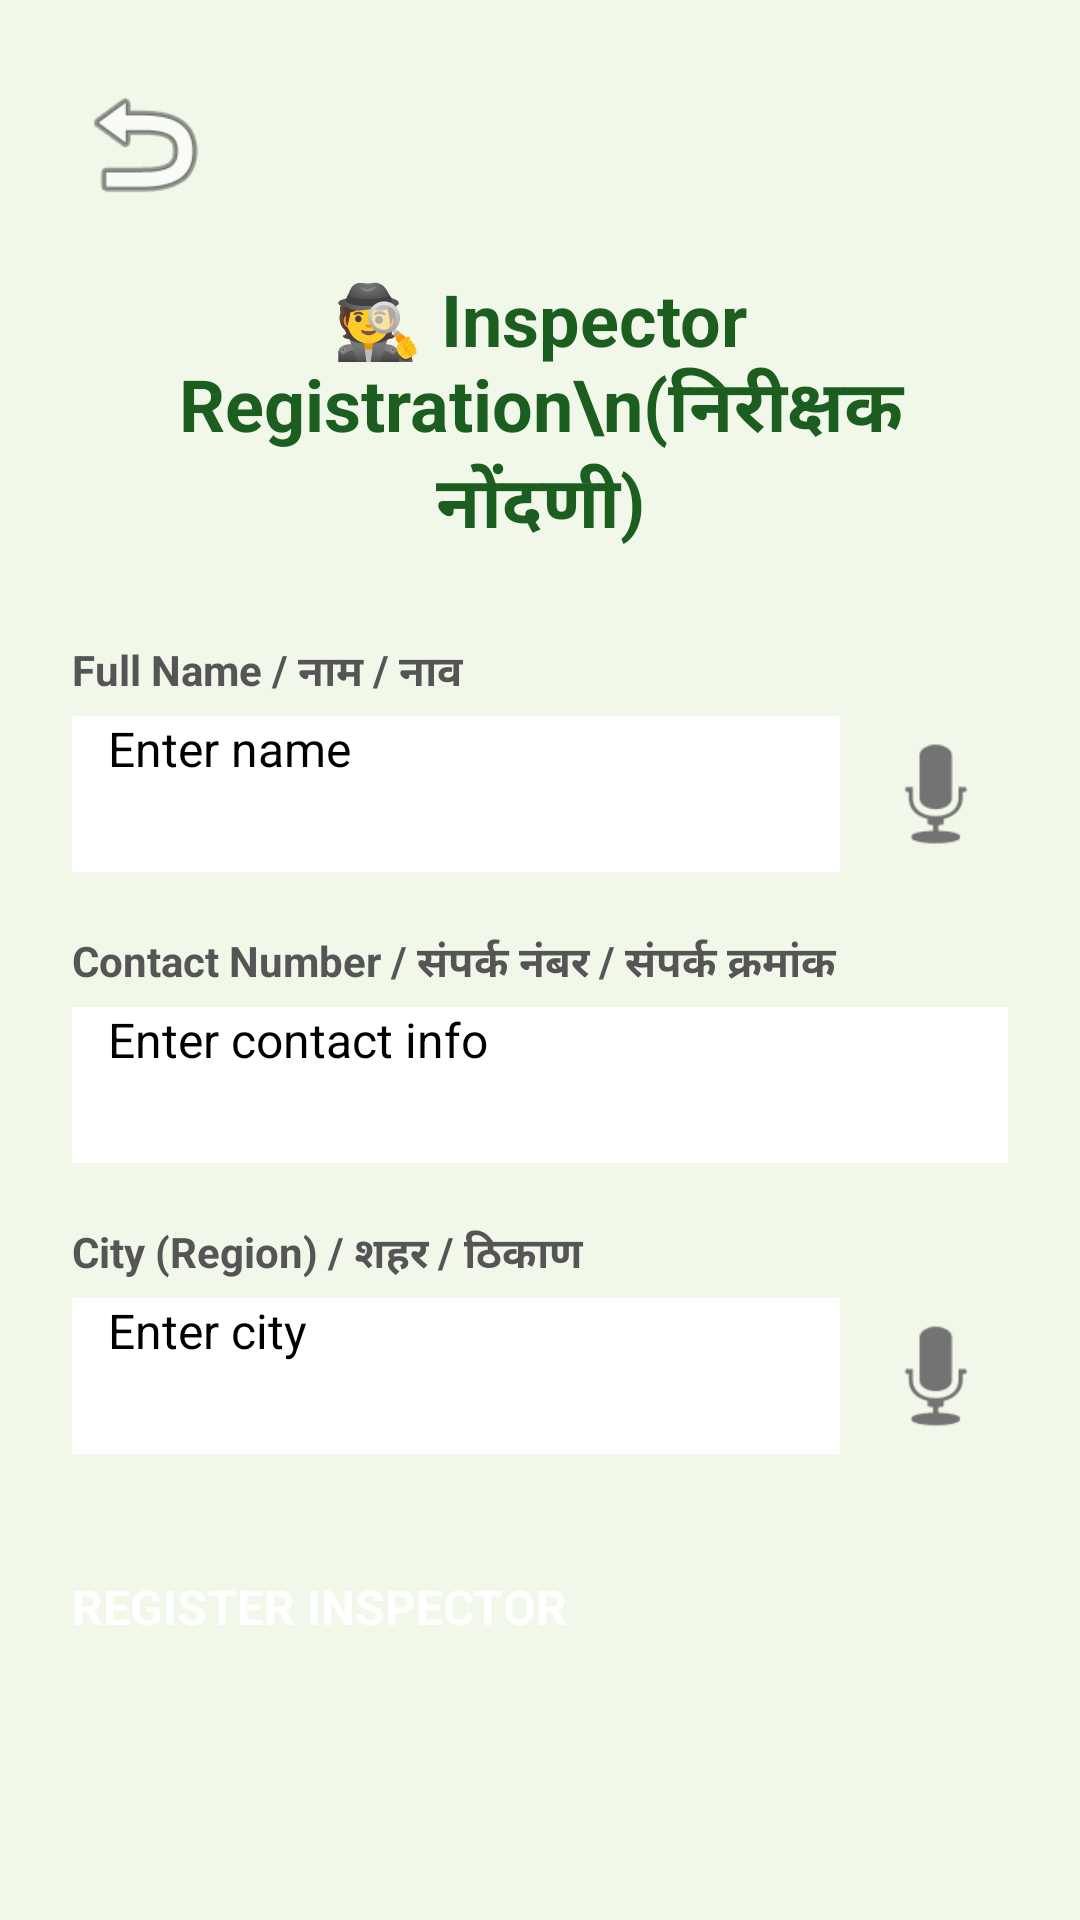

Where icons sit on this 1080*1920 app screen, as (x1, y1, x2, y2):
Back: (94, 98, 198, 192)
Voice input: (905, 744, 967, 844), (905, 1326, 967, 1426)
